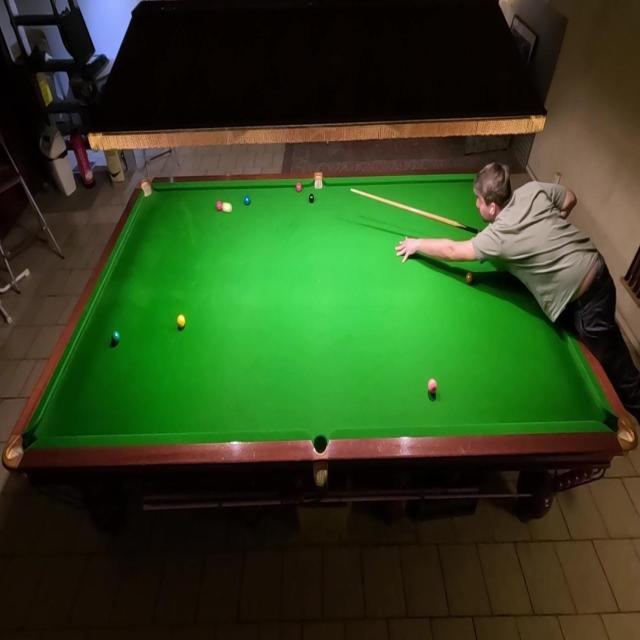Ball: (428, 378, 438, 394), (111, 330, 121, 344), (177, 314, 186, 329), (222, 202, 233, 214), (466, 272, 474, 286), (244, 195, 252, 207), (216, 200, 222, 212), (296, 182, 302, 192), (308, 194, 314, 204)
